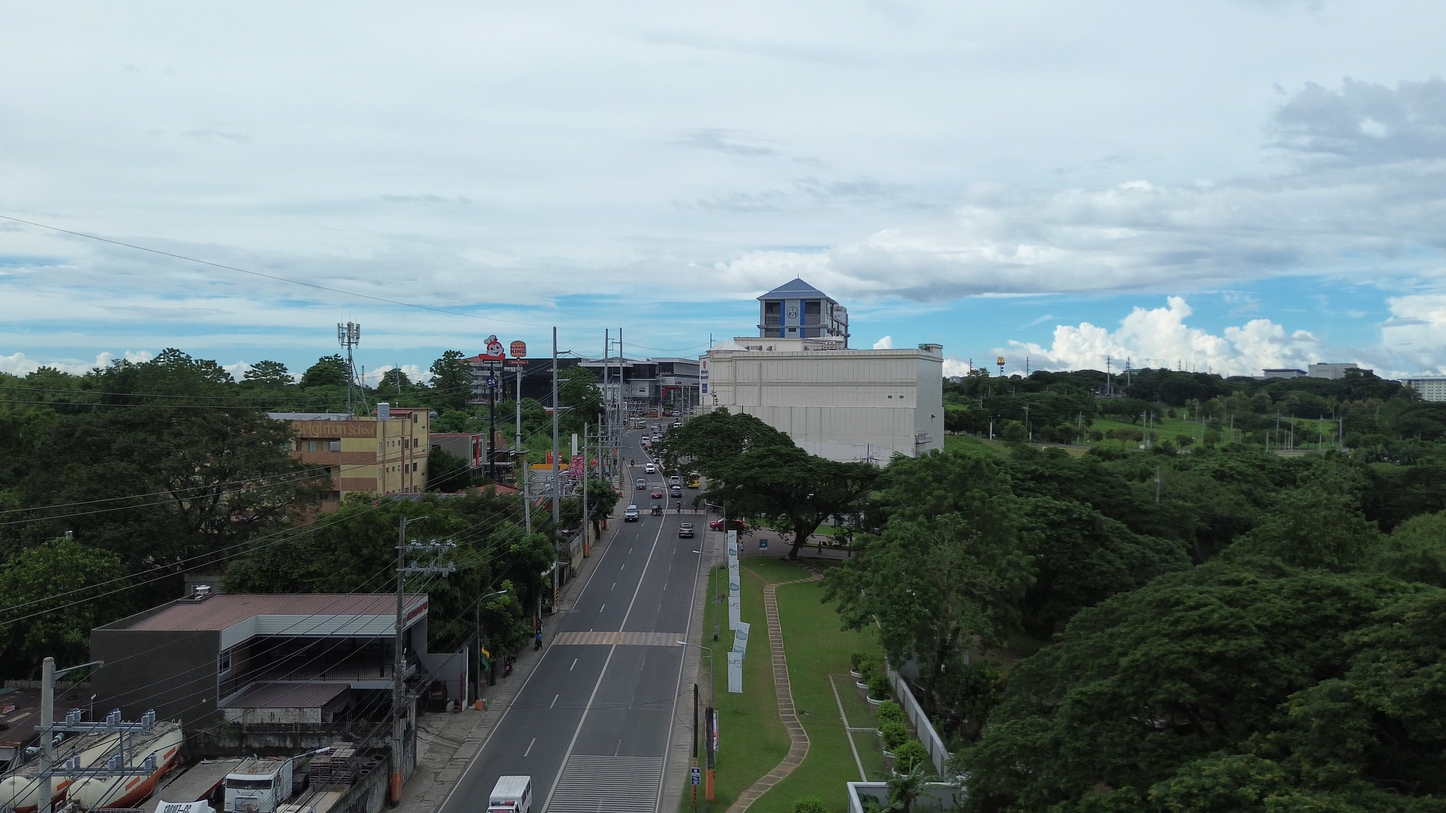car: (650, 487, 663, 499), (644, 463, 656, 473)
vehicle: (223, 758, 292, 813), (487, 776, 532, 813), (709, 519, 745, 532), (678, 522, 694, 538), (624, 505, 639, 521), (686, 472, 700, 489), (670, 485, 682, 497), (635, 478, 647, 490), (668, 475, 681, 486), (650, 504, 662, 515)
